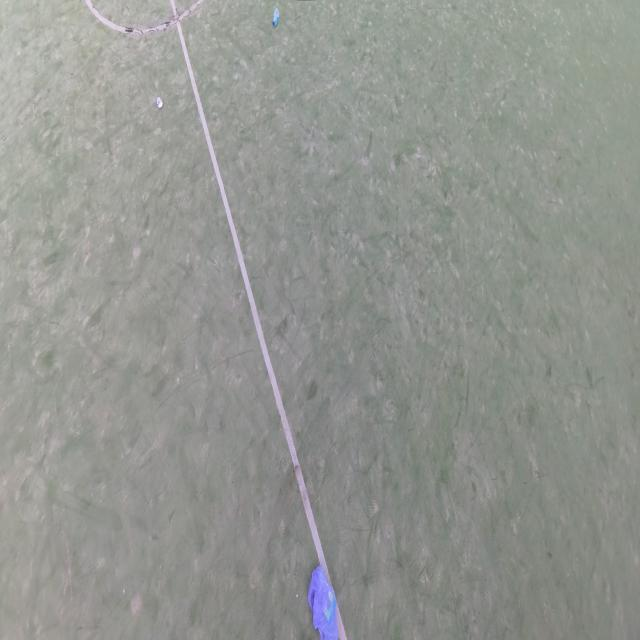rubbish: (307, 564, 338, 640), (272, 9, 279, 28), (156, 97, 163, 109)
